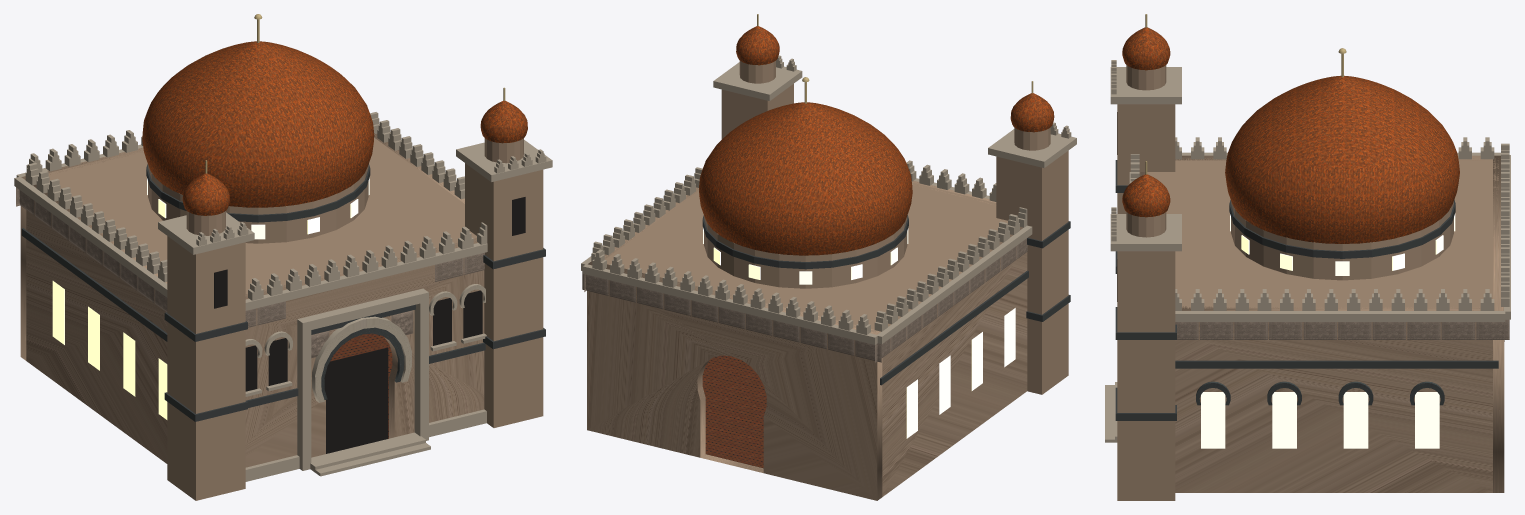
File: shrine-observatory.glb
The picture shows the model from 3 angles, left to right: view 1: azimuth 30°, elevation 25°; view 2: azimuth 150°, elevation 25°; view 3: azimuth 270°, elevation 25°; orthographic projection. The views are drawn at different scales.
Parts seen in each view (by area): view 1: observatory_wall, observatory_dome, observatory_trim, observatory_shadow, observatory_tile, merged_observatory_relief_shrine-band, observatory_glass, observatory_floor, merged_observatory_relief_shrine-panel; view 2: observatory_wall, observatory_dome, observatory_trim, merged_observatory_relief_shrine-band, observatory_floor, observatory_tile, observatory_glass; view 3: observatory_wall, observatory_dome, observatory_trim, observatory_tile, observatory_glass, merged_observatory_relief_shrine-band.
Part boxes in pixels (x1,y1,x2,y2): observatory_wall: (20,134,543,500); observatory_dome: (142,41,527,215); observatory_trim: (14,105,552,481); observatory_shadow: (214,197,525,453); observatory_tile: (21,164,545,421); merged_observatory_relief_shrine-band: (16,187,484,327); observatory_glass: (52,178,369,419); observatory_floor: (330,333,392,438); merged_observatory_relief_shrine-panel: (311,310,413,358); observatory_wall: (587,60,1068,500); observatory_dome: (699,26,1054,255); observatory_trim: (581,55,1076,344); merged_observatory_relief_shrine-band: (582,238,1027,362); observatory_floor: (702,355,766,468); observatory_tile: (702,215,1070,385); observatory_glass: (703,228,1015,438); observatory_wall: (1117,65,1504,500); observatory_dome: (1122,27,1459,243); observatory_trim: (1105,60,1510,442); observatory_tile: (1115,160,1498,420); observatory_glass: (1201,213,1455,448); merged_observatory_relief_shrine-band: (1175,319,1509,341).
Bounding box in the file's own units: 18.8 × 18.17 × 18.2.
10 materials, 7 textured.
